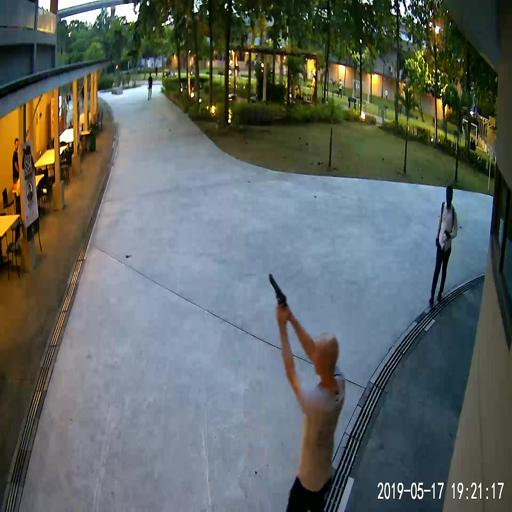pistol: (268, 272, 288, 317)
